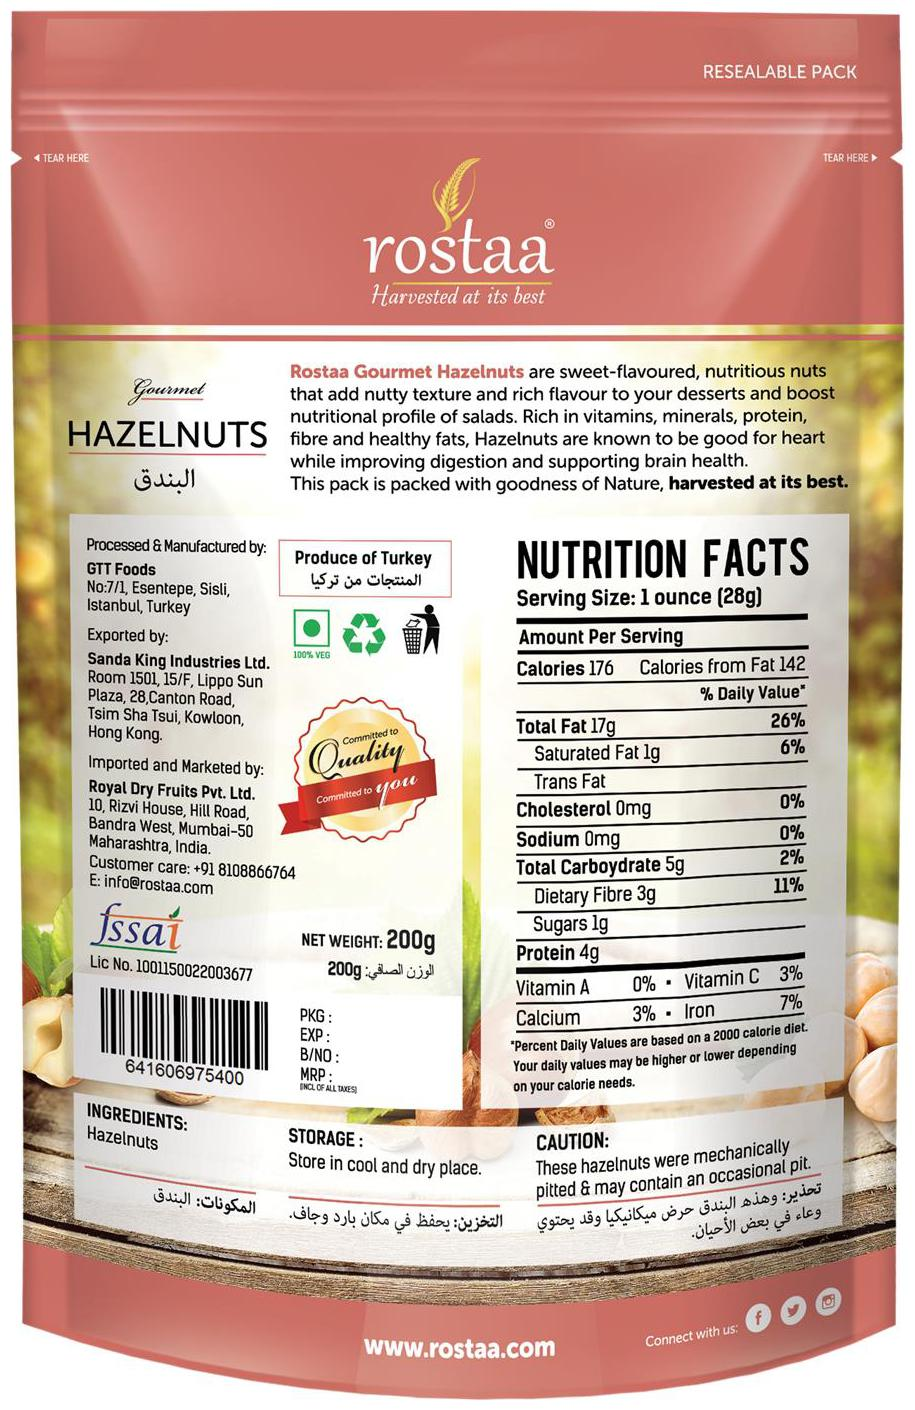fssai: (87, 899, 185, 953)
